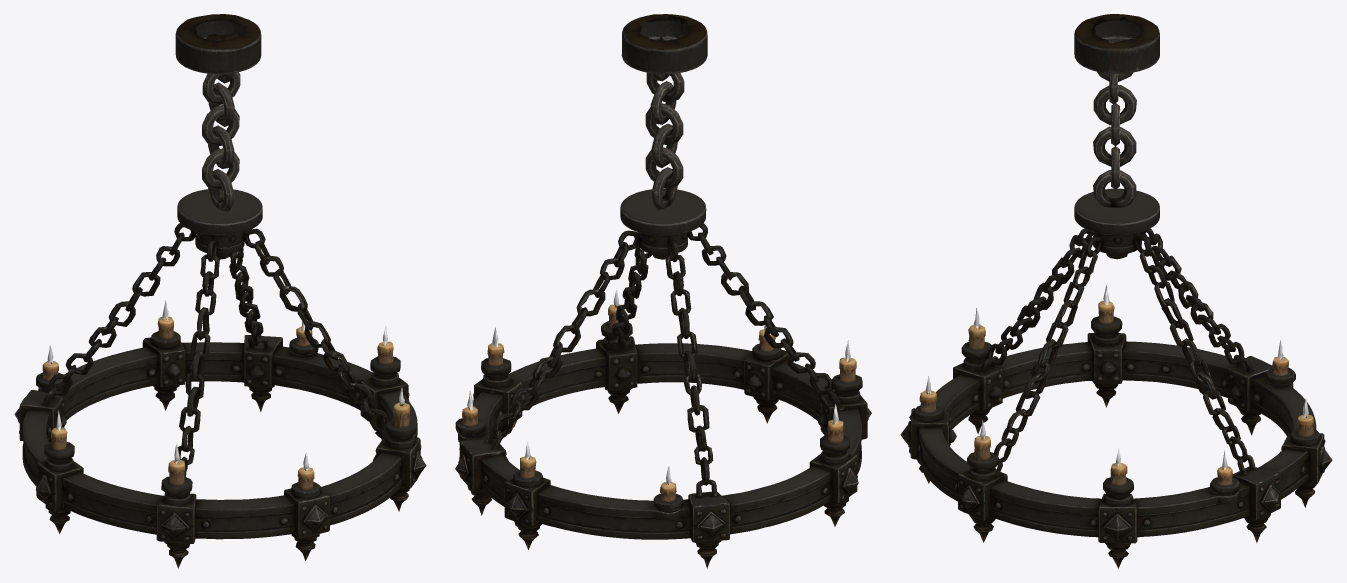
File: Chandelier_02.fbx
3 views of the same model, side by side, from view 1: azimuth 30°, elevation 25°; view 2: azimuth 150°, elevation 25°; view 3: azimuth 270°, elevation 25° (orthographic).
Parts seen in each view (by area): view 1: Chandelier_02; view 2: Chandelier_02; view 3: Chandelier_02.
Part boxes in pixels (x1,y1,x2,y2): Chandelier_02: (14,14,426,568); Chandelier_02: (455,14,871,568); Chandelier_02: (900,14,1332,568).
Size of the model in its own units: 196 by 231 by 195.
3 materials, 2 textured.
